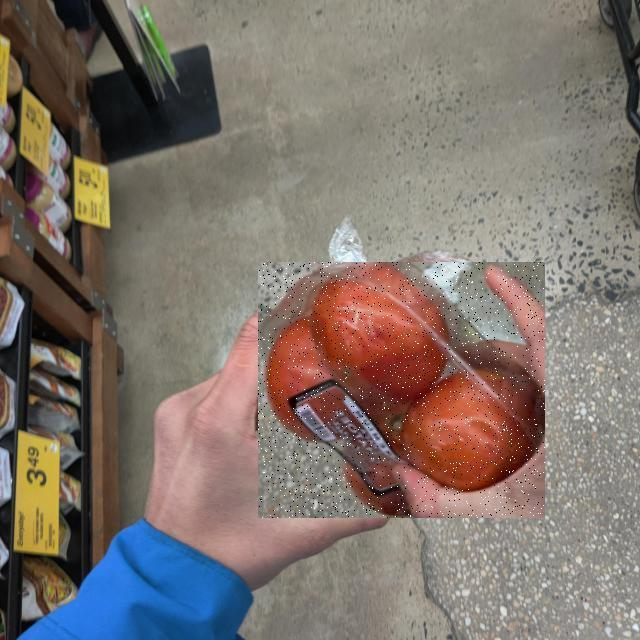Tomatoes: (258, 263, 545, 519)
